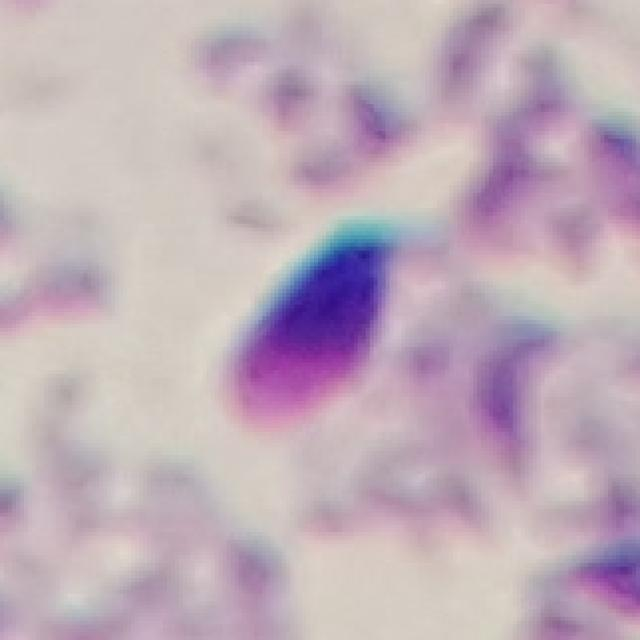non-sperm: (228, 211, 406, 423)
